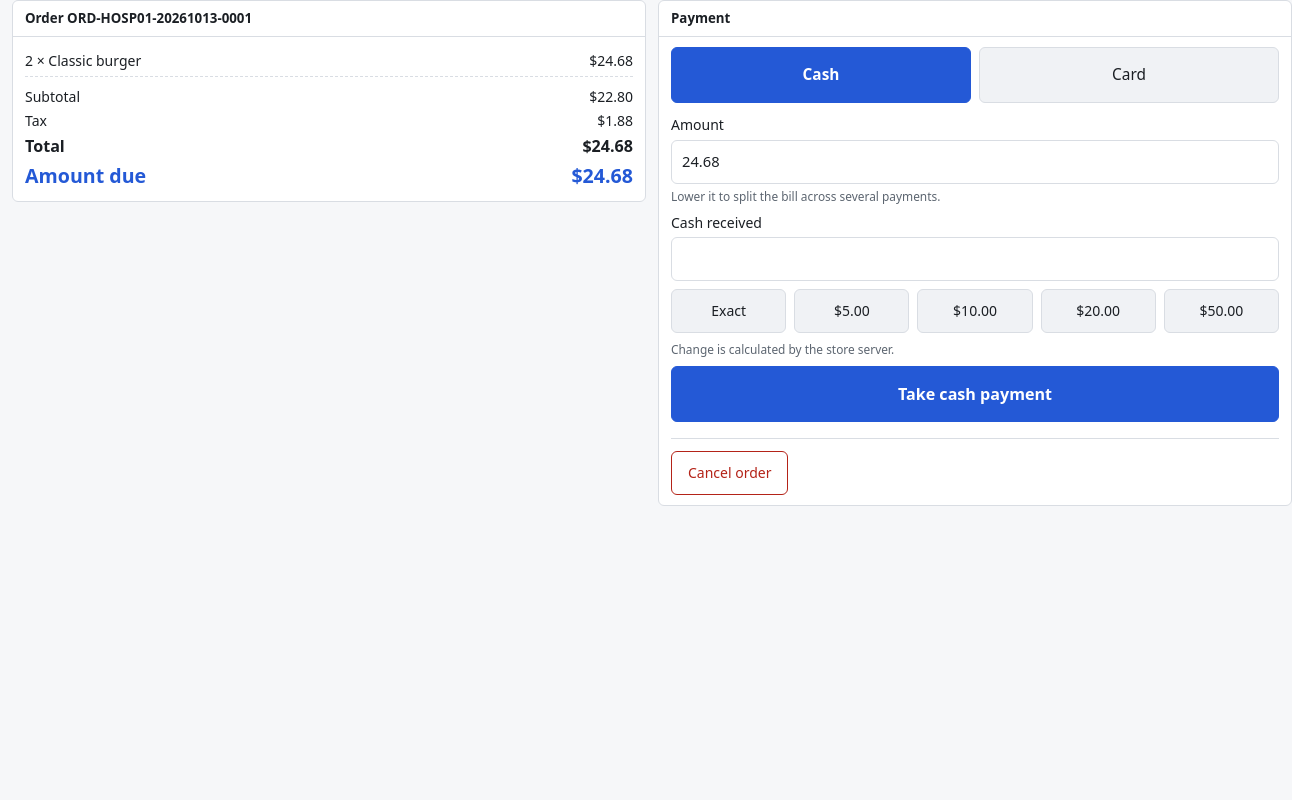
Test: POS › resumes the order being paid after a reload and can cancel it with a reason
Expected: the text with test id "amount-due" reads "$24.68", [571,162,633,190]
Click the button "Cancel order". click: (730, 473)
box: [671,451,788,495]
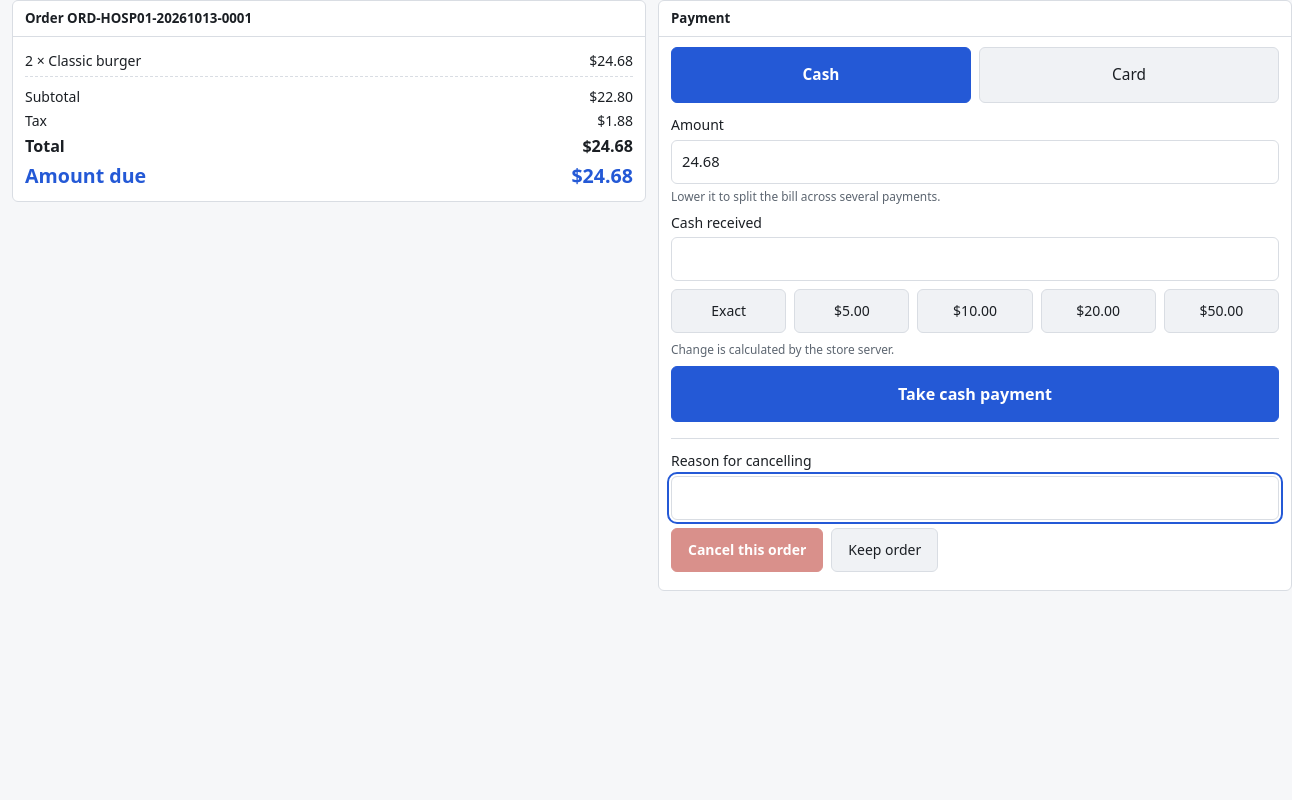
Type "Customer left" into the field labelled "Reason for cancelling". click: (975, 498)
box: [671,476,1279,520]
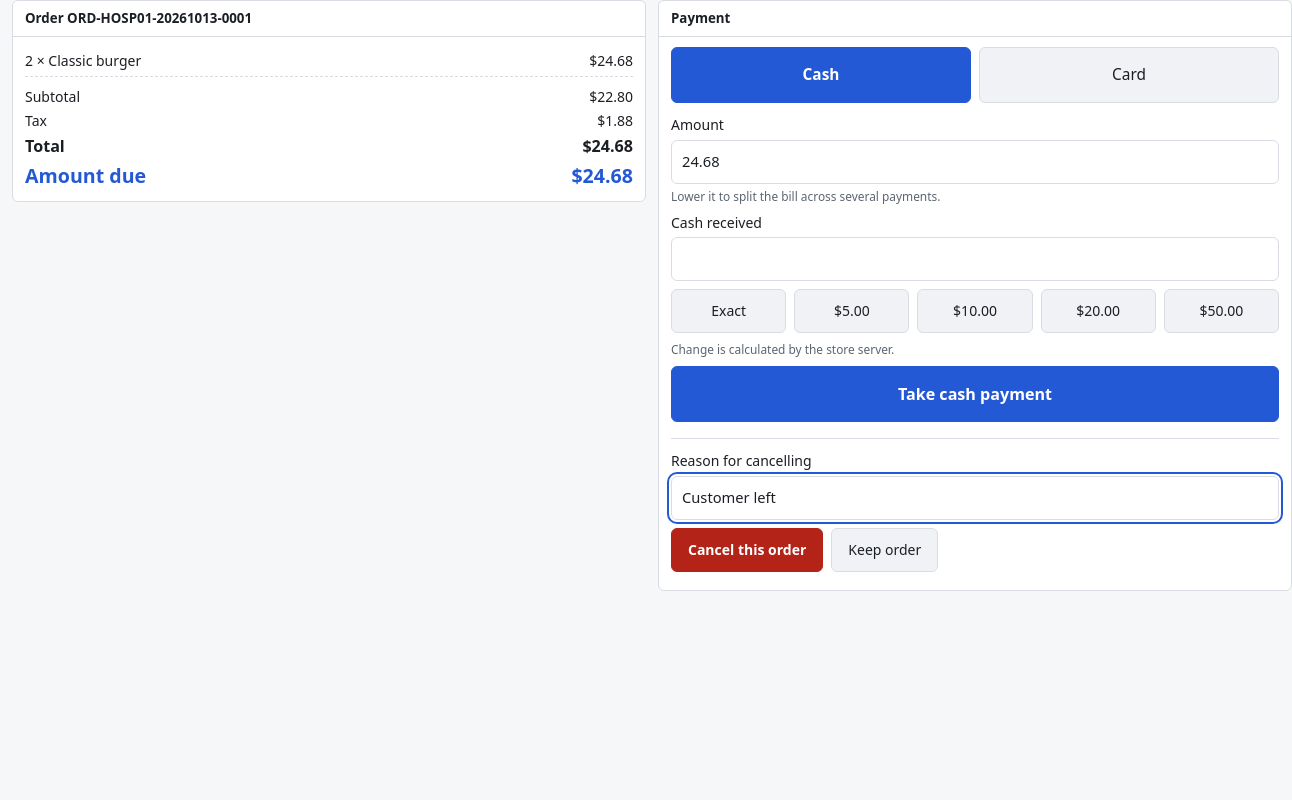
Click the button "Cancel this order". click: (747, 550)
box: [671,528,823,572]
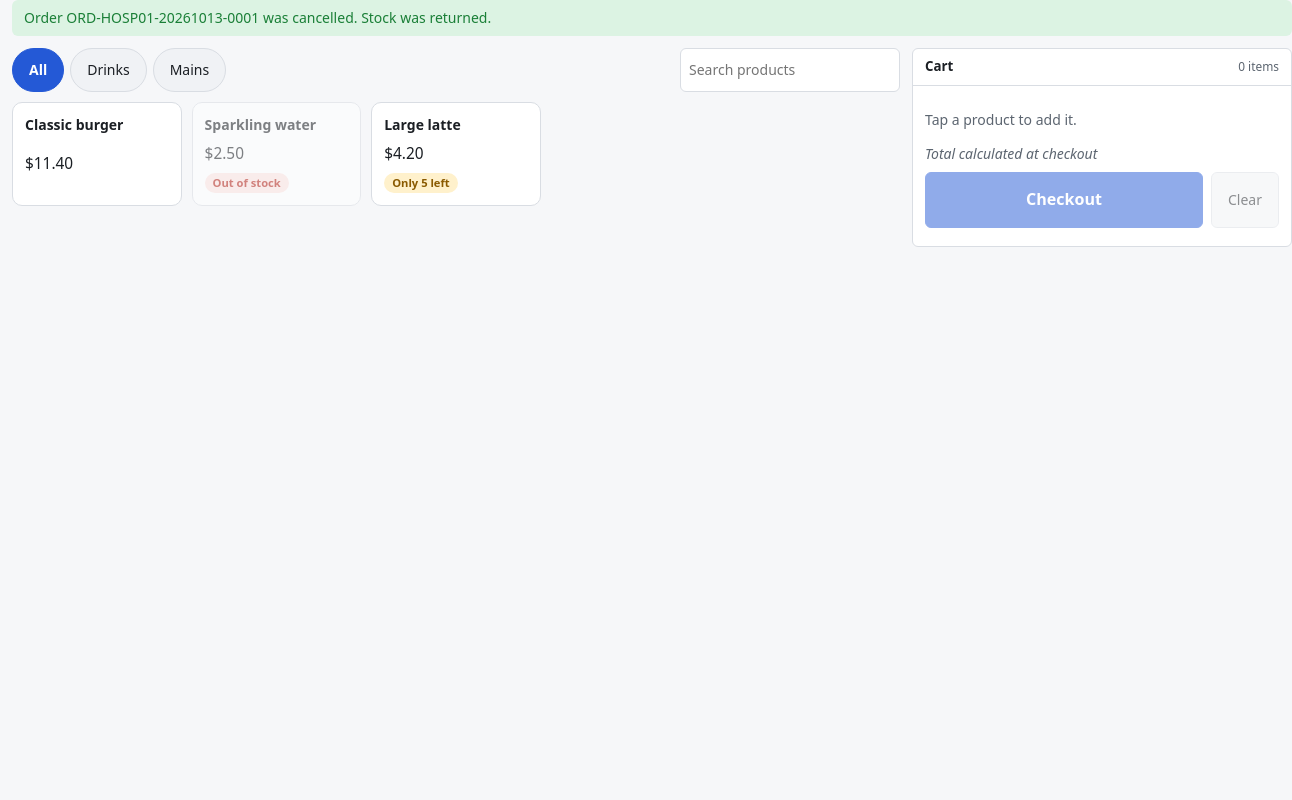
Expected: the text "Order ORD-HOSP01-20261013-0001 was cancelled. Stock was returned." is shown, [12,0,1291,36]
